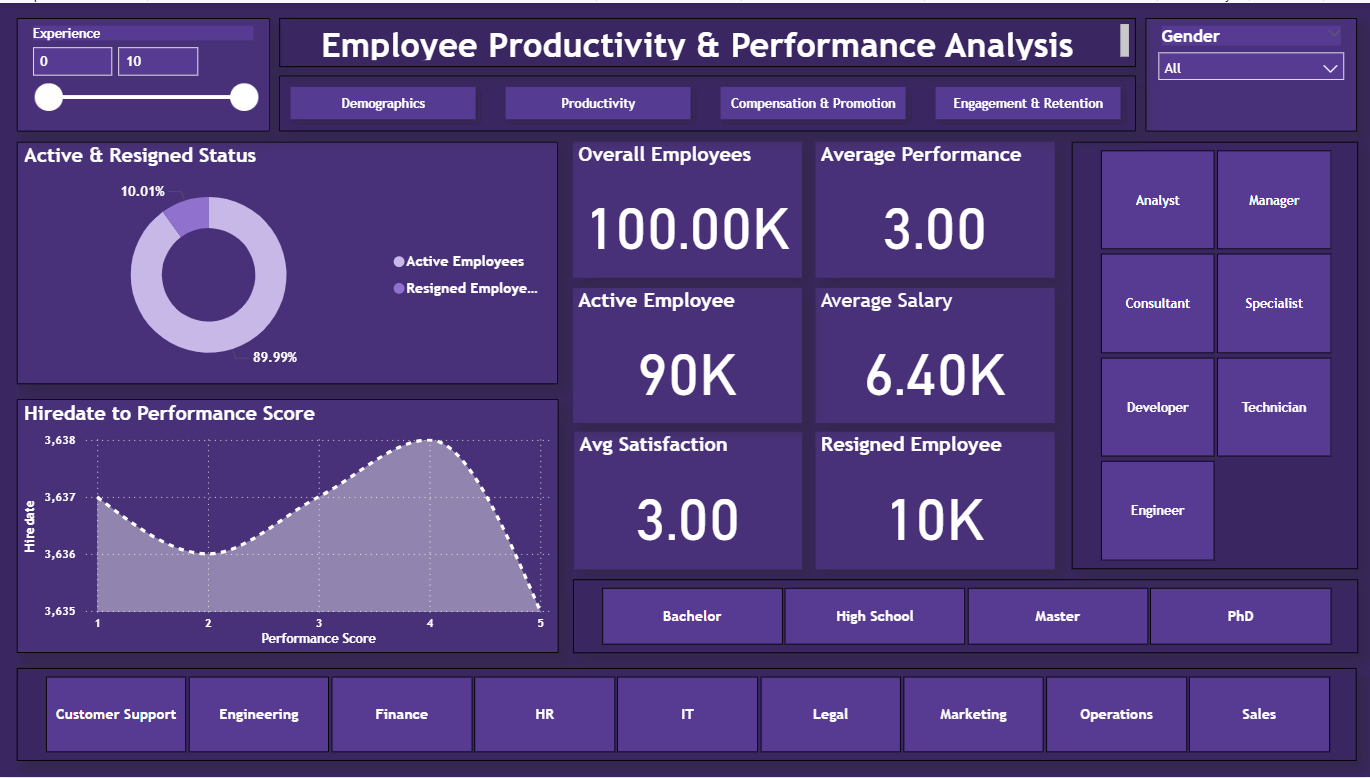

What the dashboard file says about the page in this screenshot:
{"tool":"powerbi","page":{"name":"Overviews ","canvas":[1280,720],"ordinal":0},"visuals":[{"type":"card","title":"Overall Employees ","fields":{"Values":["Employee.Total Employees"]},"box":[534.9,129.1,212.8,126.7],"z":0},{"type":"card","title":"Average Performance","fields":{"Values":["Employee.Avg Performance"]},"box":[760.5,129.1,222.1,126.7],"z":1000},{"type":"card","title":"Avg Satisfaction ","fields":{"Values":["Employee.Avg Satisfaction"]},"box":[536,398.8,211.6,127.9],"z":2000},{"type":"card","title":"Average Salary","fields":{"Values":["Employee.Avg Salary"]},"box":[760.5,265.1,222.1,125.6],"z":3000},{"type":"card","title":"Resigned Employee","fields":{"Values":["Employee.Resigned Employees"]},"box":[760.5,398.8,222.1,127.9],"z":4000},{"type":"card","title":"Active Employee","fields":{"Values":["Employee.Active Employees"]},"box":[534.9,265.1,212.8,125.6],"z":5000},{"type":"donutChart","title":"Active & Resigned Status","fields":{"Y":["Employee.Active Employees","Employee.Resigned Employees"]},"box":[17.4,129.1,503.5,225.6],"z":6000},{"type":"lineChart","title":"Hiredate to Performance Score","fields":{"Category":["Employee.Performance_Score"],"Y":["Count(Employee.Hire_Date)"]},"box":[17.5,368.8,503.8,236.2],"z":7000},{"type":"slicer","fields":{"Values":["Employee.Department"]},"box":[17.5,618.8,1246.2,86.2],"z":8000},{"type":"slicer","fields":{"Values":["Employee.Gender"]},"box":[1067.4,14,196.5,105.8],"z":9000},{"type":"slicer","fields":{"Values":["Employee.Education_Level"]},"box":[535,536.2,730,68.8],"z":10000},{"type":"slicer","fields":{"Values":["Employee.Job_Title"]},"box":[998.8,129.1,266.3,397.7],"z":11000},{"type":"slicer","fields":{"Values":["Employee.Years_At_Company"]},"box":[17.4,14,234.9,105.8],"z":12000},{"type":"pageNavigator","box":[261.6,67.4,796.5,52.3],"z":13000},{"type":"textbox","box":[261.6,14,796.5,45.3],"z":14000}]}

Visuals, with their boxes in screenshot pixels (x1, y1, x2, y2), scaled from the page's 1280x720 canvas onto the 1370x778 screenshot:
"Overall Employees " card: bbox=[573, 139, 800, 276]
"Average Performance" card: bbox=[814, 139, 1052, 276]
"Avg Satisfaction " card: bbox=[574, 431, 800, 569]
"Average Salary" card: bbox=[814, 286, 1052, 422]
"Resigned Employee" card: bbox=[814, 431, 1052, 569]
"Active Employee" card: bbox=[573, 286, 800, 422]
"Active & Resigned Status" donutChart: bbox=[19, 139, 558, 383]
"Hiredate to Performance Score" lineChart: bbox=[19, 399, 558, 654]
slicer - Employee.Department: bbox=[19, 669, 1353, 762]
slicer - Employee.Gender: bbox=[1142, 15, 1353, 129]
slicer - Employee.Education_Level: bbox=[573, 579, 1354, 654]
slicer - Employee.Job_Title: bbox=[1069, 139, 1354, 569]
slicer - Employee.Years_At_Company: bbox=[19, 15, 270, 129]
pageNavigator: bbox=[280, 73, 1132, 129]
textbox: bbox=[280, 15, 1132, 64]
